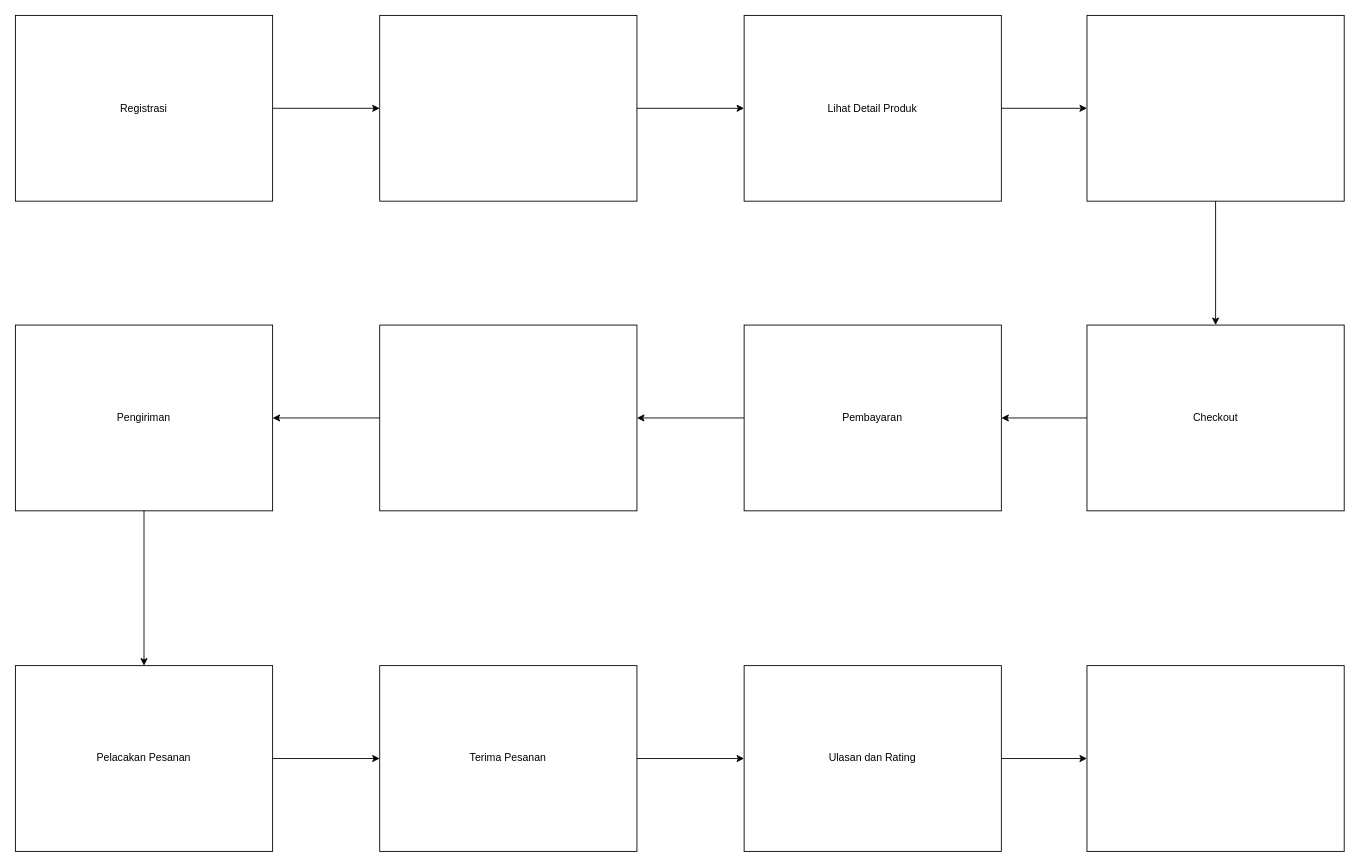
The diagram is 1360 pixels wide and 867 high, and some of its shapes have lost their labels. The shapes that lost their labels are listed below. From the top down, each one's centre as x and y in pixels, then its label:
the point at 508,108: Cari Produk
the point at 1215,108: Tambah ke Keranjang
the point at 508,417: Konfirmasi Pesanan
the point at 1215,758: Layanan Pelanggan
